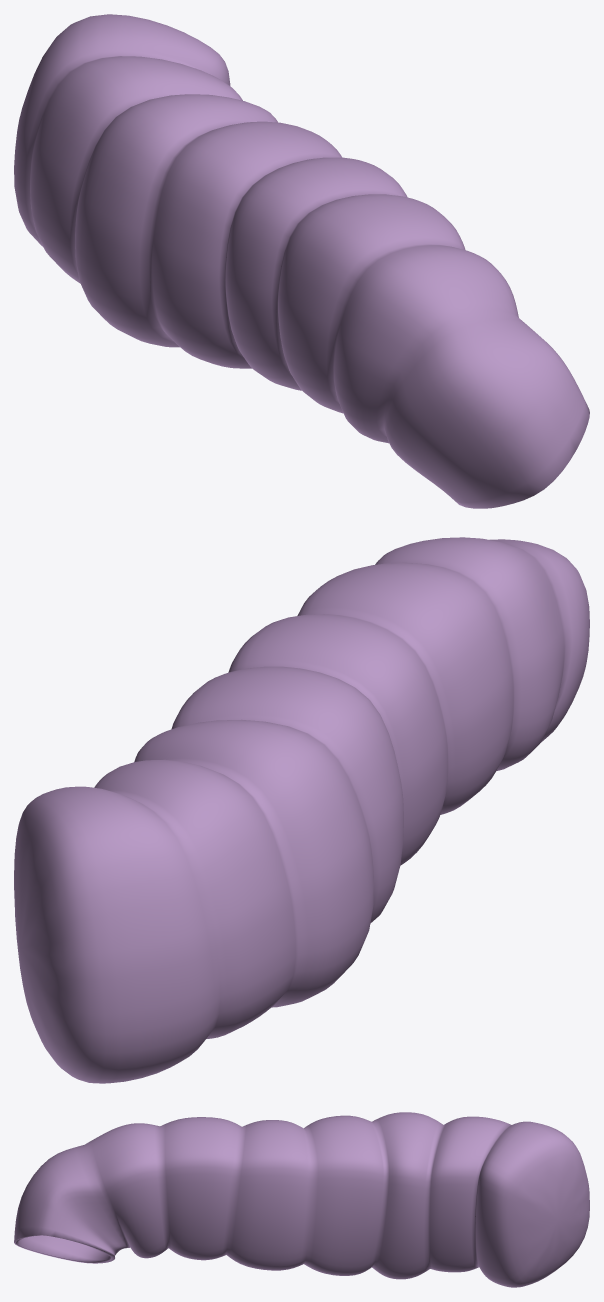
The picture shows the model from 3 angles, top to bottom: view 1: azimuth 30°, elevation 25°; view 2: azimuth 150°, elevation 25°; view 3: azimuth 270°, elevation 25°; orthographic projection. The views are drawn at different scales.
Visible parts, largest first — view 1: 升结肠; view 2: 升结肠; view 3: 升结肠.
Part boxes in pixels (bbox=[...]): 升结肠: bbox=[14, 14, 589, 508]; 升结肠: bbox=[14, 537, 589, 1083]; 升结肠: bbox=[14, 1112, 589, 1287].
Size of the model in its own units: 0.0759 by 0.0827 by 0.2835.
